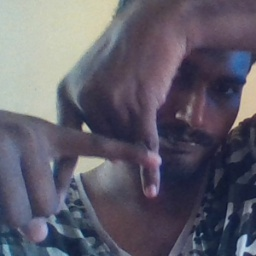H: (31, 90, 178, 219)
